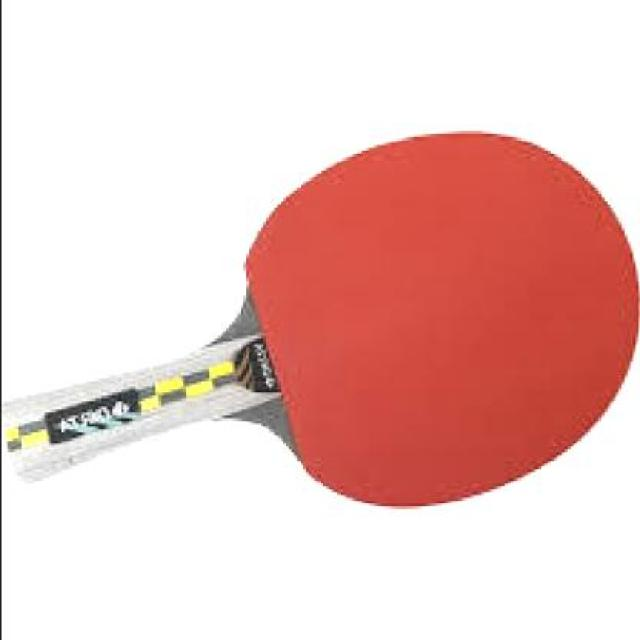table_tennis_racket: (230, 125, 638, 509)
